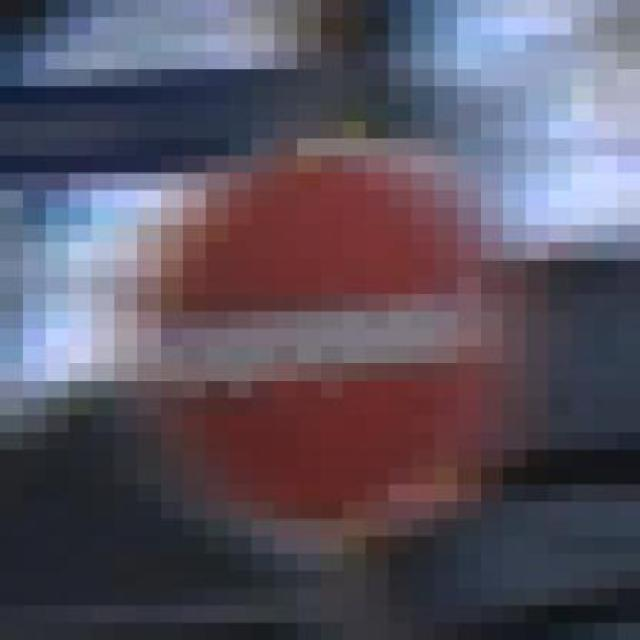No Entry: (46, 121, 572, 553)
